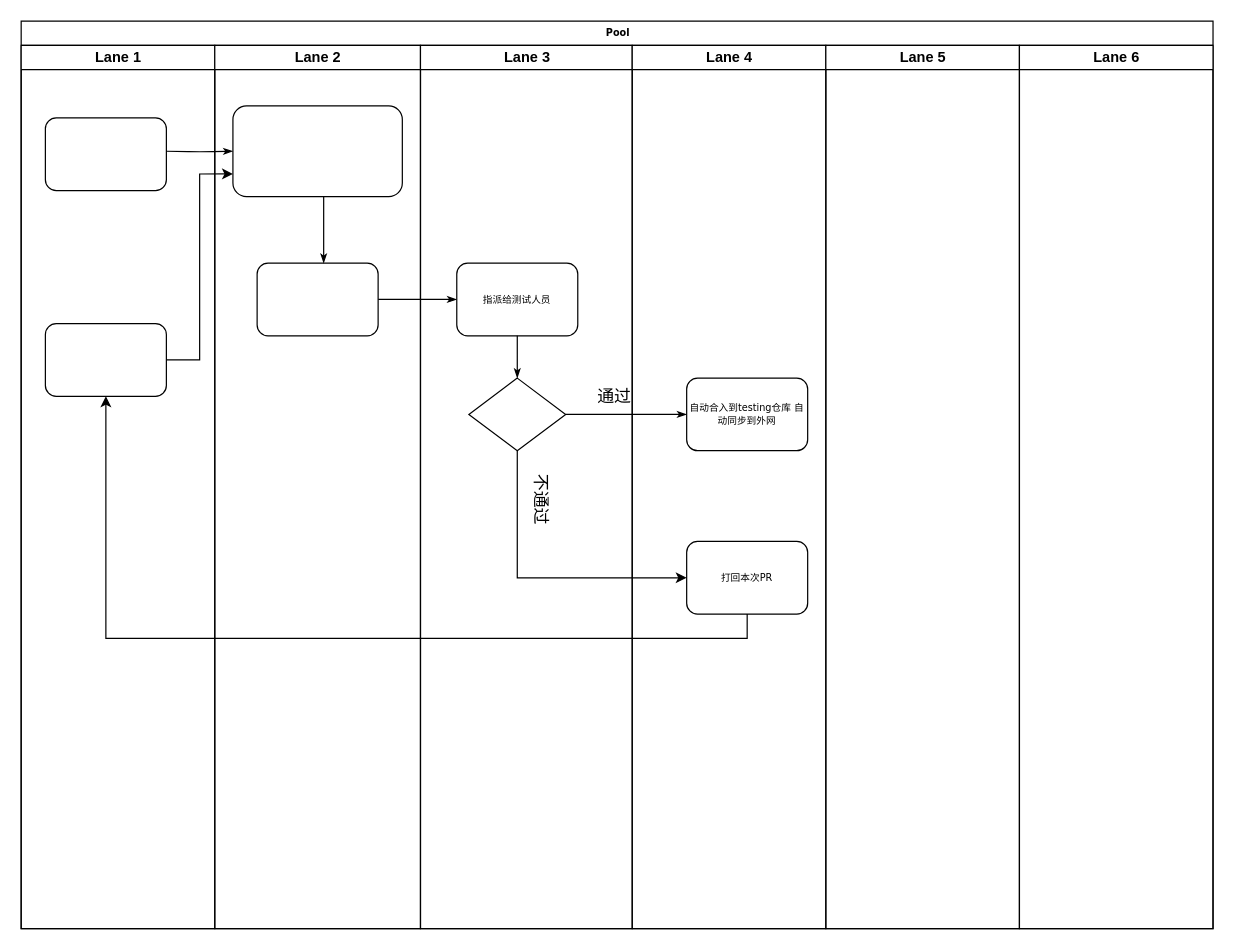
Image size: 1234x950. Some labels were removed from this diagram. The centre of each missing label's shape, as x and y in pixels:
json文件记录源码名称 版本 仓库地址或topic，更新内容 pr 修改相关 内容: the point at 317,151
在release项目提交PR: the point at 105,154
备注更新内容 测试范围 测试用例等: the point at 317,299
更新或重新提交PR: the point at 105,359
测试验证: the point at 517,414
